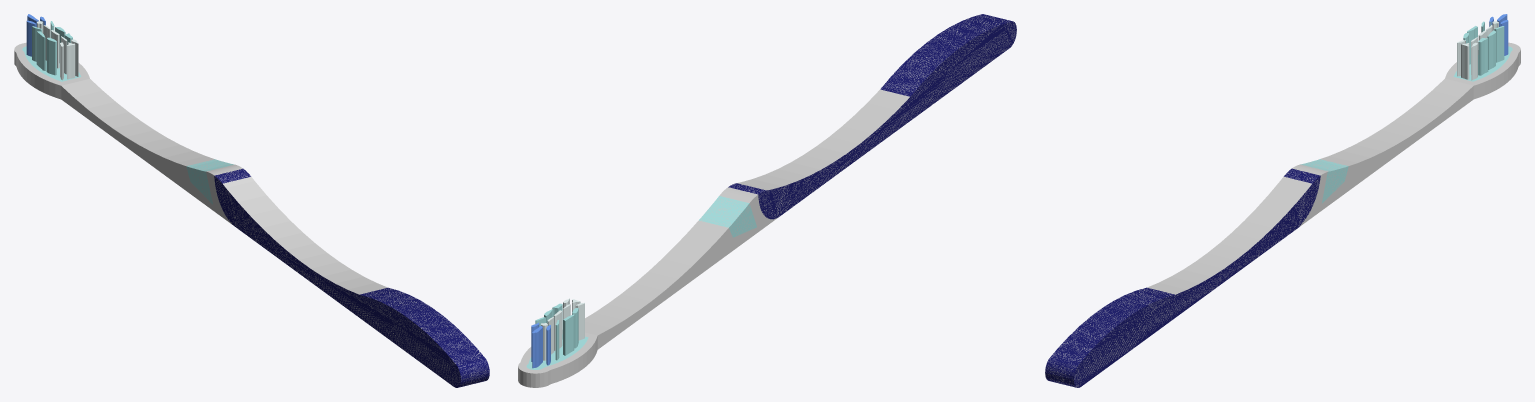
Rendered from toothbrush.dae.
The picture shows the model from 3 angles, left to right: view 1: azimuth 30°, elevation 25°; view 2: azimuth 150°, elevation 25°; view 3: azimuth 330°, elevation 25°; orthographic projection. The views are drawn at different scales.
Visible parts, largest first — view 1: skp1450 (×5); view 2: skp1450 (×8); view 3: skp1450 (×6).
Boxes of the visible parts, bbox=[...] form: skp1450 (×5): bbox=[14, 42, 489, 387]; skp1450 (×8): bbox=[518, 14, 1016, 387]; skp1450 (×6): bbox=[1045, 42, 1520, 387].
Bounding box in the file's own units: 7.2 × 124 × 7.15.
